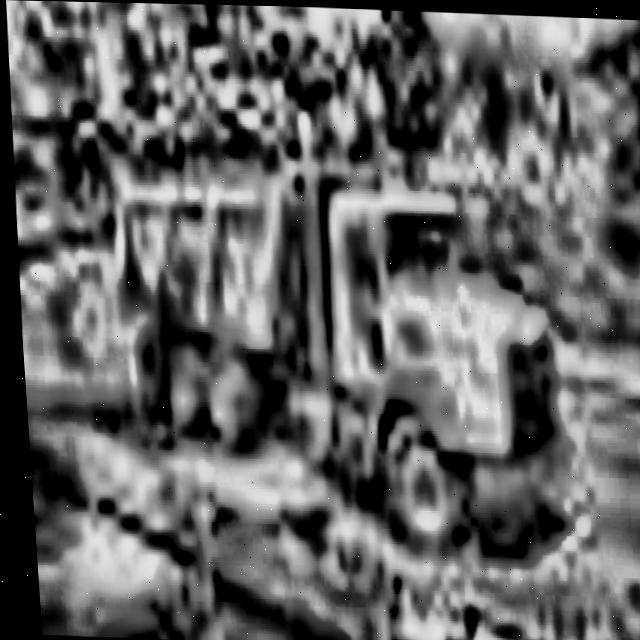dump_truck: (93, 119, 576, 576)
